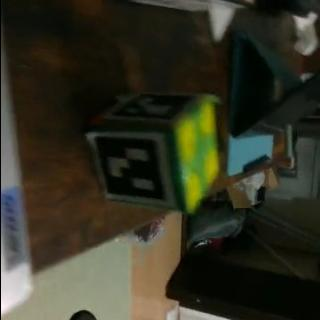armor: (88, 132, 175, 208), (102, 92, 196, 124)
robot: (85, 90, 216, 212)
